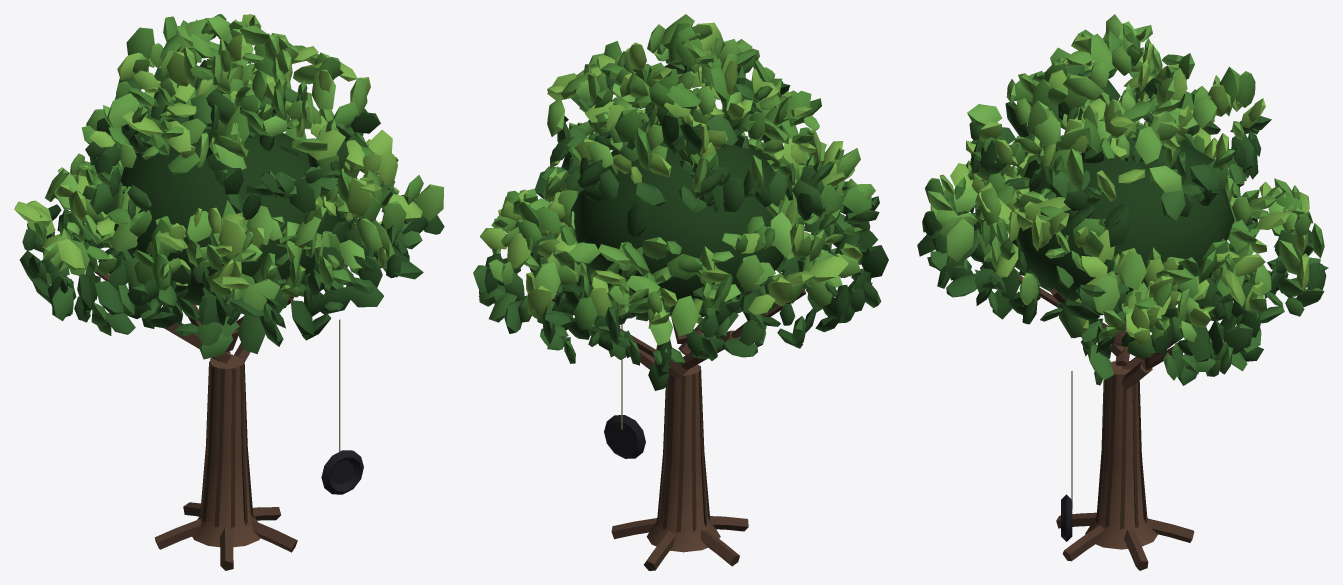
Rendered from suburb_tree_tyre.glb.
3 renders of one model, left to right at view 1: azimuth 30°, elevation 25°; view 2: azimuth 150°, elevation 25°; view 3: azimuth 270°, elevation 25°, orthographic. The views are drawn at different scales.
Visible parts, largest first — view 1: suburb_tree_tyre; view 2: suburb_tree_tyre; view 3: suburb_tree_tyre.
Boxes of the visible parts, x1=… form: suburb_tree_tyre: x1=14, y1=14, x2=444, y2=570; suburb_tree_tyre: x1=473, y1=14, x2=888, y2=570; suburb_tree_tyre: x1=917, y1=14, x2=1328, y2=570.
Bounding box in the file's own units: 5.83 × 8.1 × 5.83.
